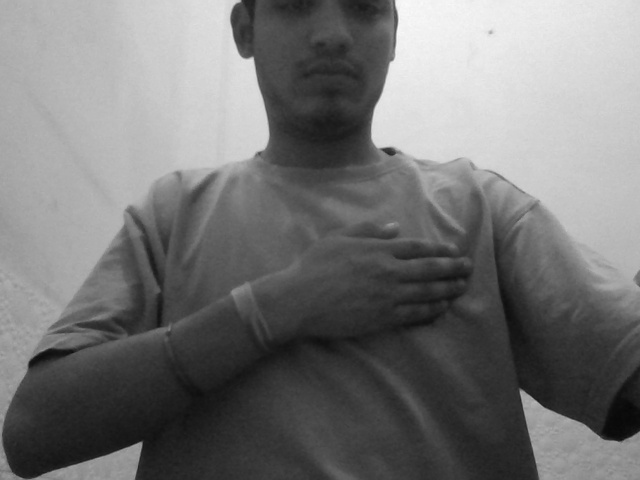Sorry: (274, 208, 514, 372)
